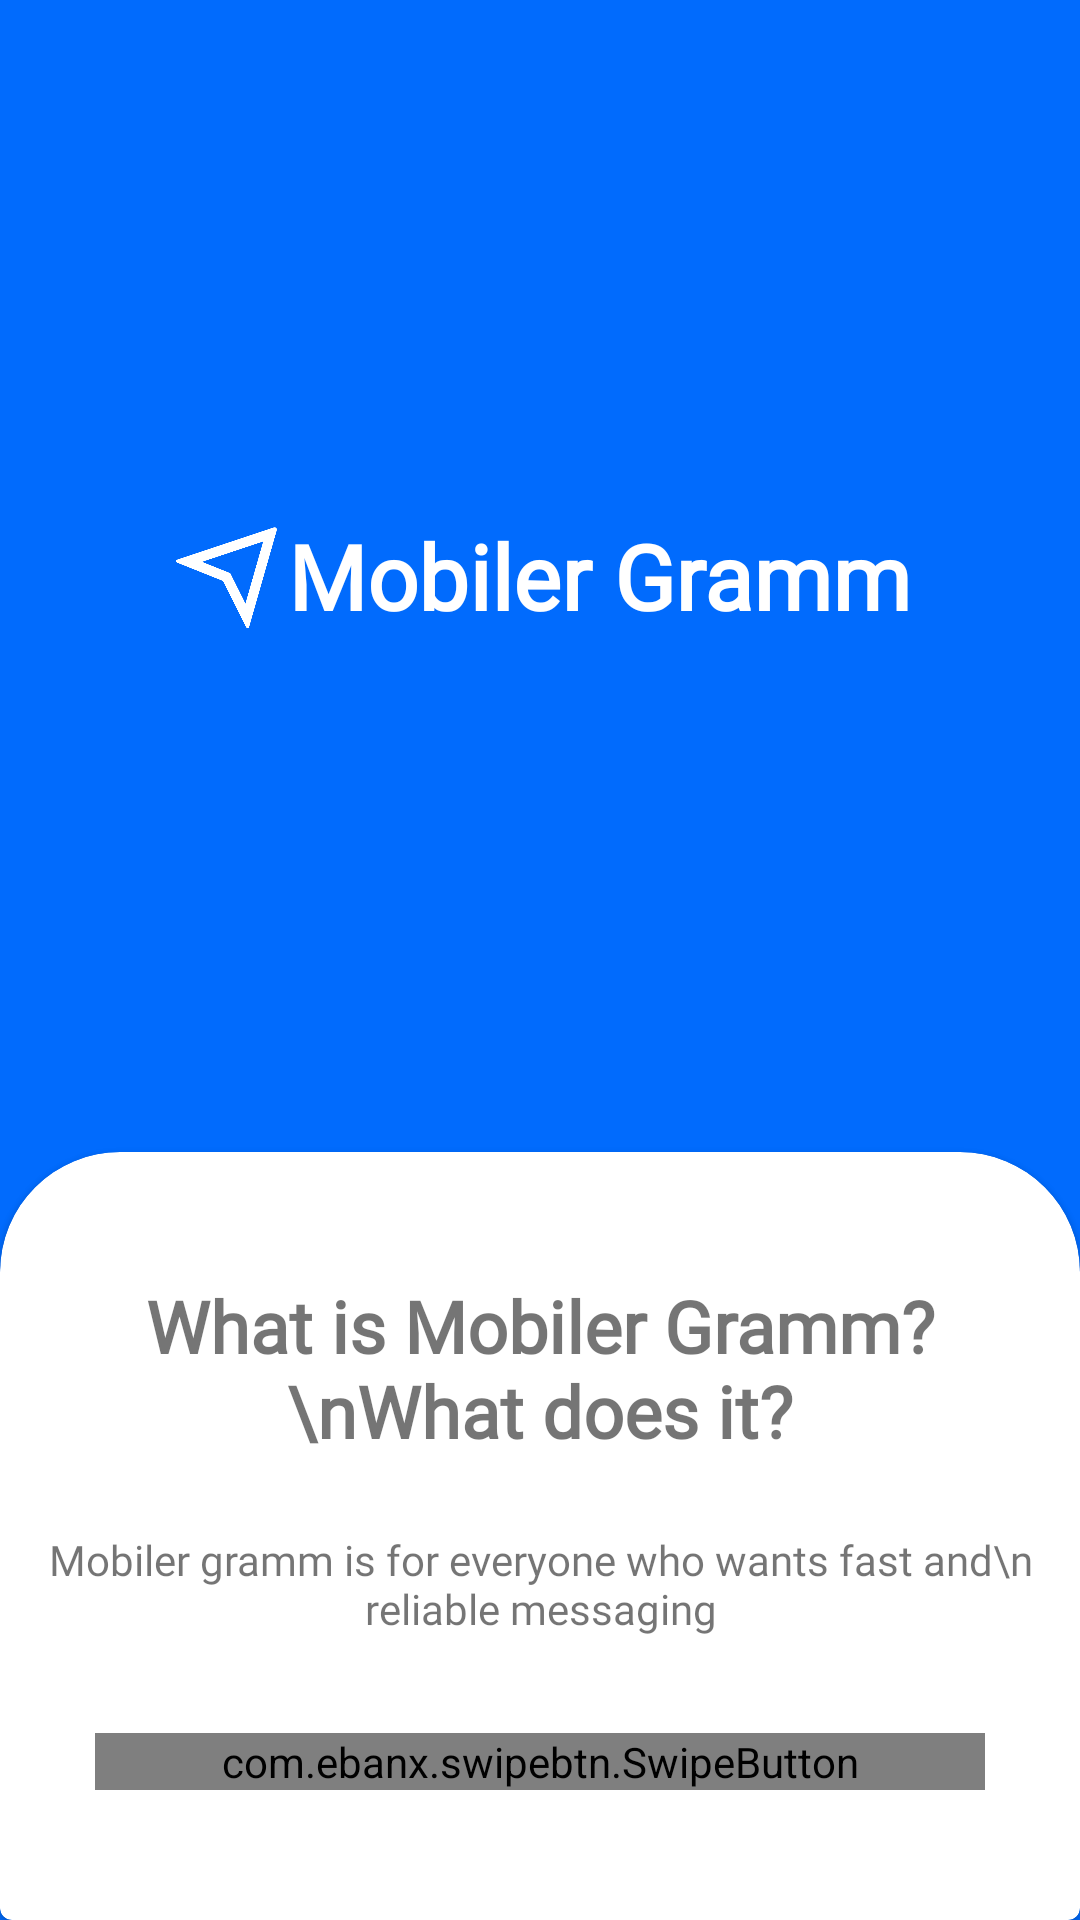

Icon bounding boxes for this 1080*1920 phone screenshot, format (x1, y1, x2, y2):
send: (176, 527, 277, 628)
